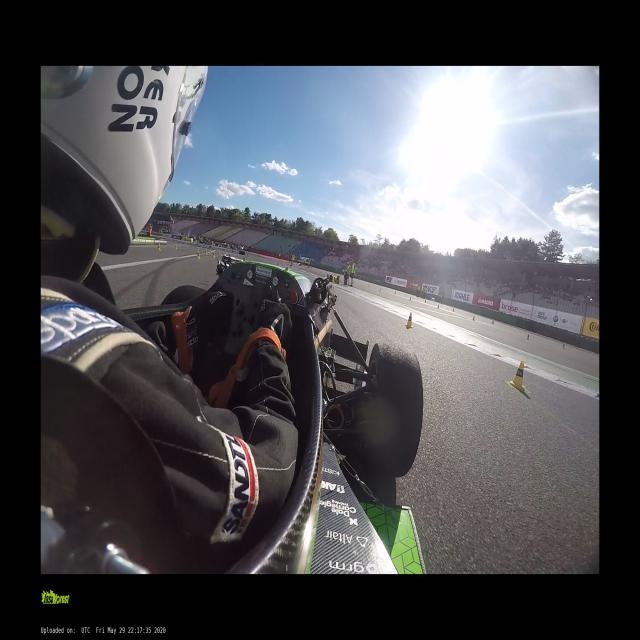yellow_cone: (511, 361, 526, 391), (405, 312, 413, 328), (197, 251, 200, 260), (526, 333, 529, 341), (561, 344, 565, 349), (436, 304, 440, 309), (472, 315, 475, 321), (408, 296, 412, 300), (204, 250, 207, 255), (158, 244, 160, 251), (423, 298, 426, 302), (367, 283, 370, 287), (378, 288, 381, 292), (213, 252, 215, 258), (452, 307, 454, 311), (394, 290, 396, 294), (491, 320, 493, 324)
